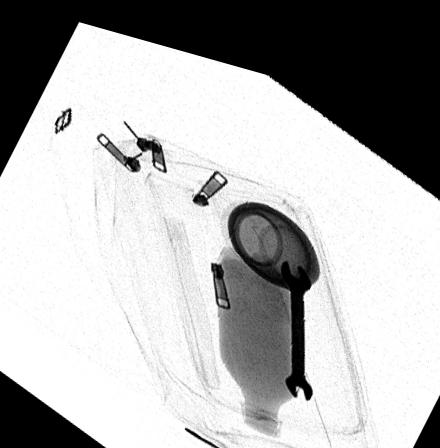Wrench: (280, 244, 317, 387)
